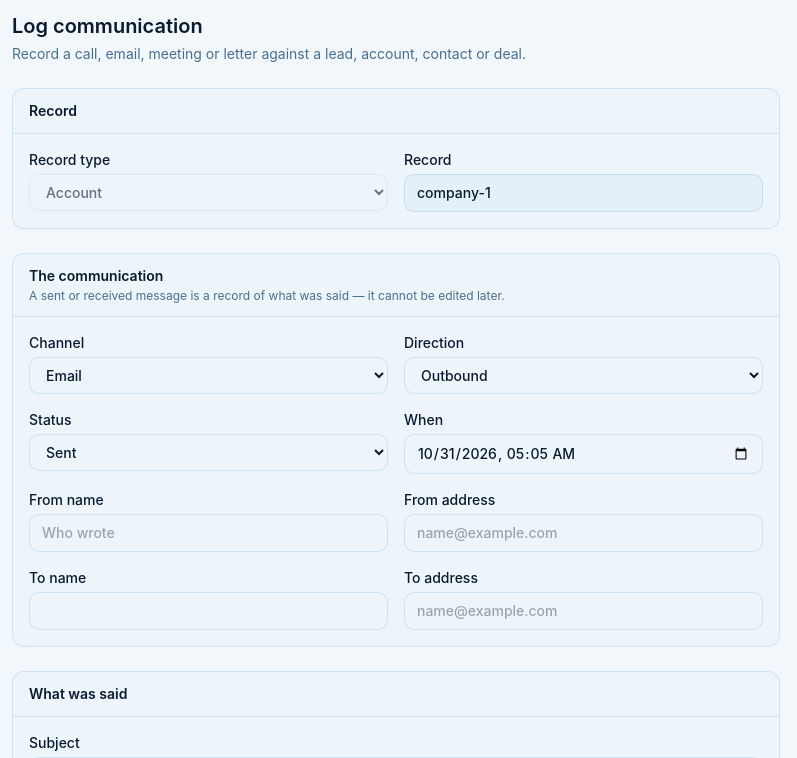
Test case: Log communication › drops the draft option when the channel can no longer have one
Select "Draft" in the dropdown labelled "Status" at (208, 452), box [29,434,388,471]
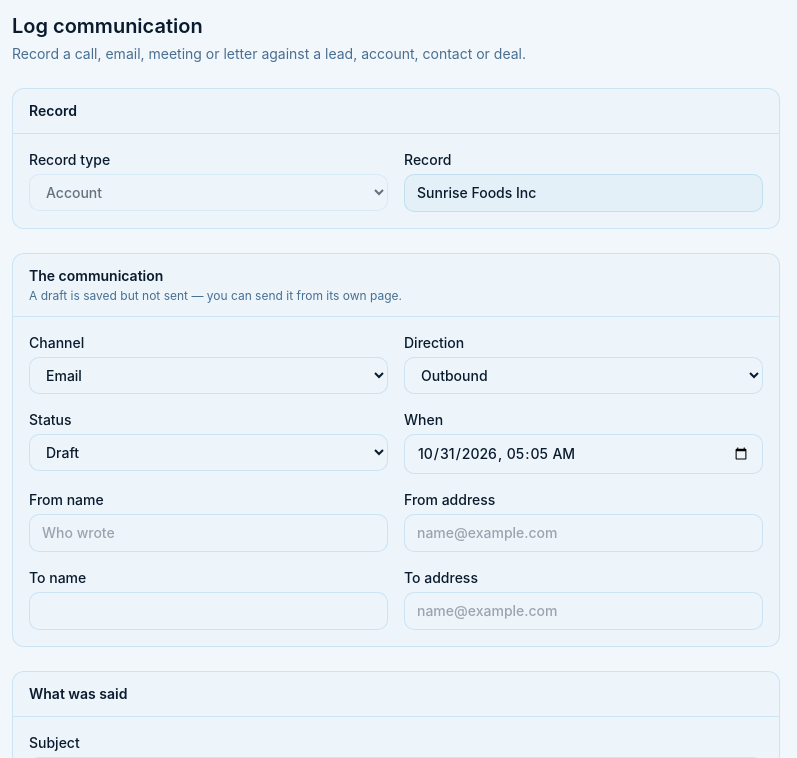
Select "Call" in the dropdown labelled "Channel" at (208, 376), box [29,357,388,394]
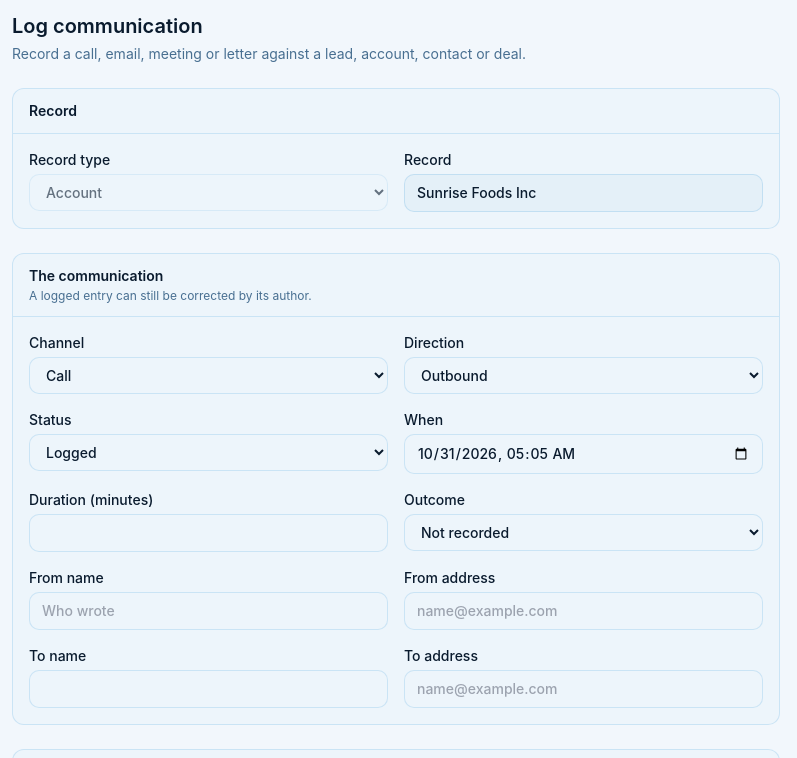
Expected: the text "draft" is gone
